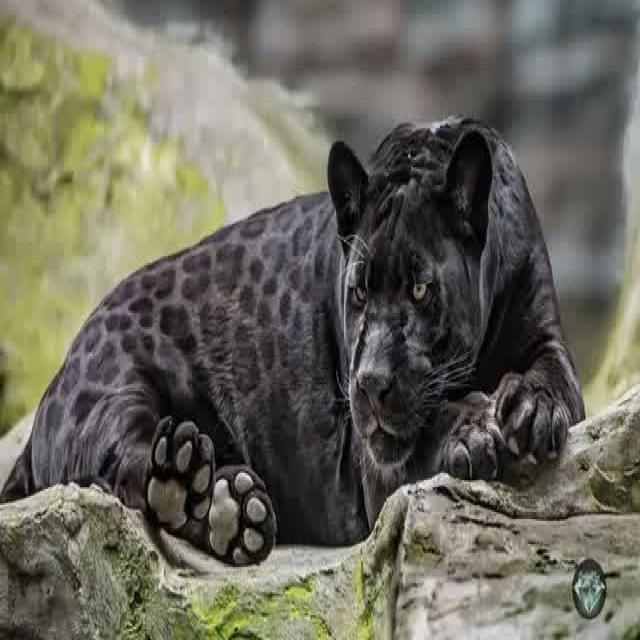Jaguar: (1, 114, 588, 569)
